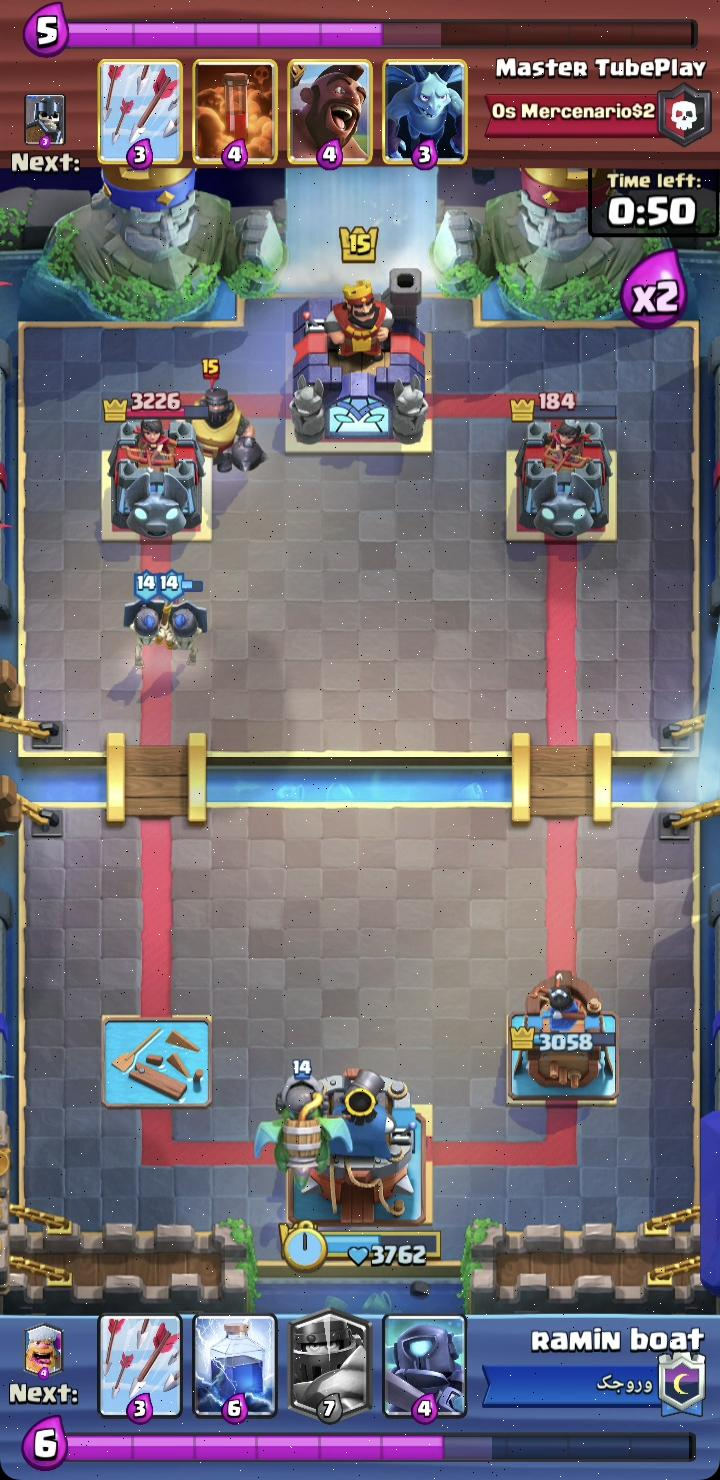EKingTower: (290, 270, 429, 446)
EMegaKnight: (201, 384, 264, 471)
EnemyPrincessTower: (516, 419, 611, 540), (110, 417, 204, 539)
OGuard: (124, 573, 173, 668), (160, 572, 206, 662)
OInfernoDrag: (255, 1060, 332, 1189)
OwnKingTower: (283, 1068, 438, 1224)
OwnPrincessTower: (508, 971, 616, 1104)
TowerDown: (102, 1017, 211, 1106)
